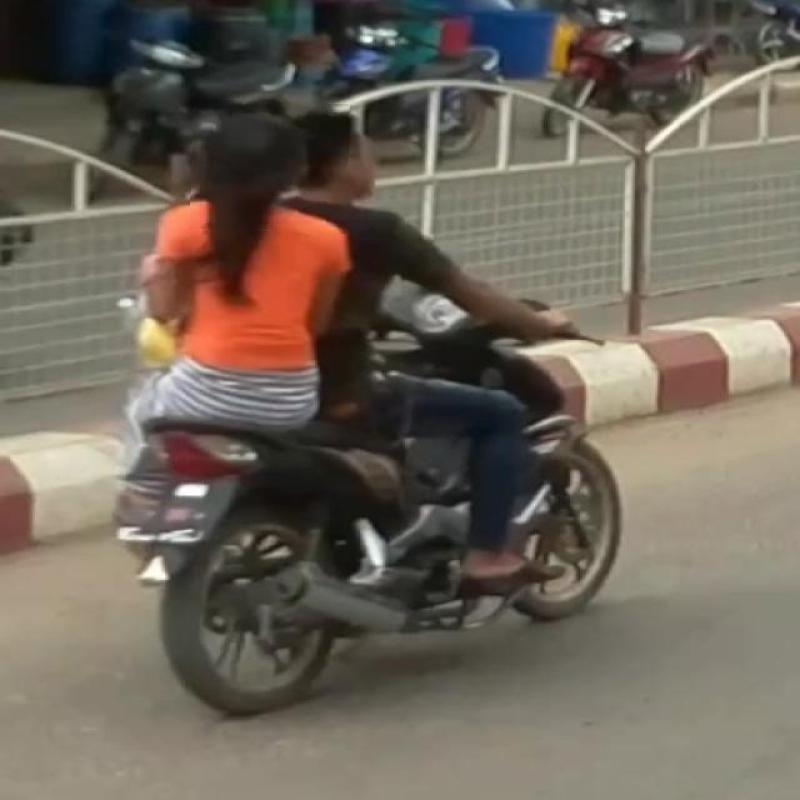nohelmet: (190, 100, 349, 234)
